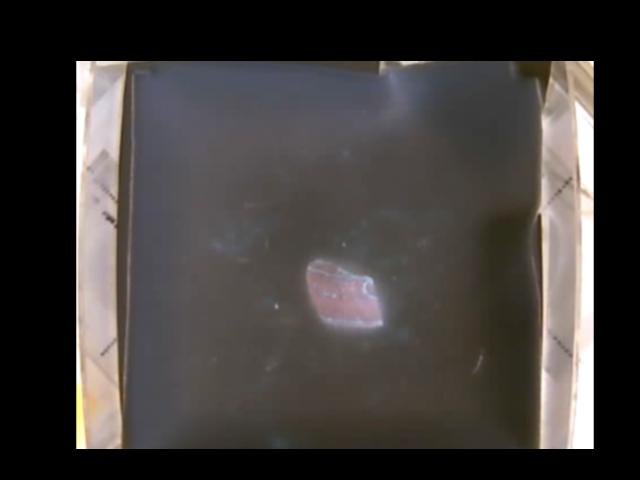China: (306, 257, 384, 326)
